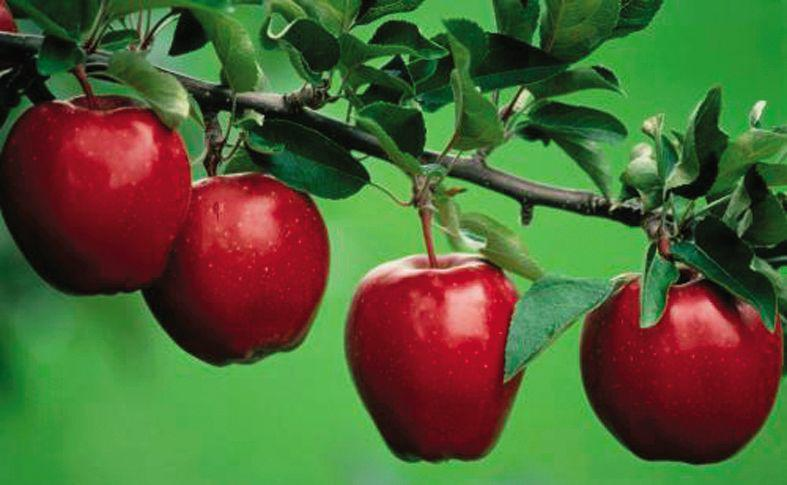apple: (583, 275, 787, 468), (1, 94, 191, 299), (345, 251, 525, 465), (145, 172, 331, 367)
